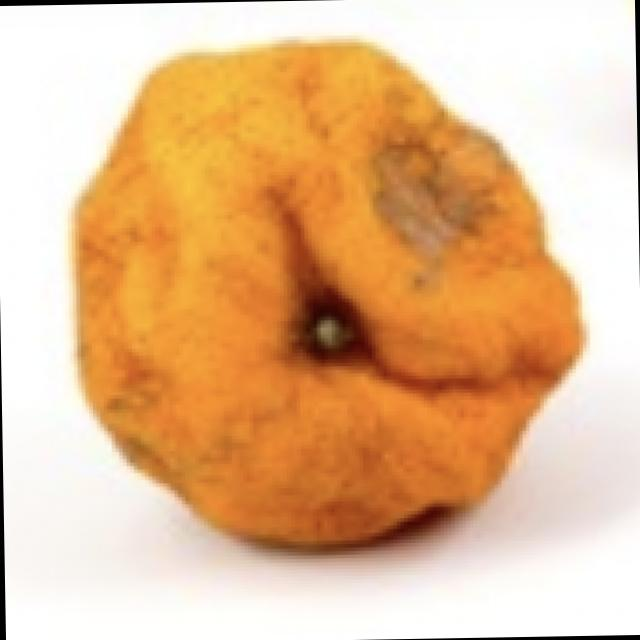rotten-orange: (64, 35, 580, 558)
